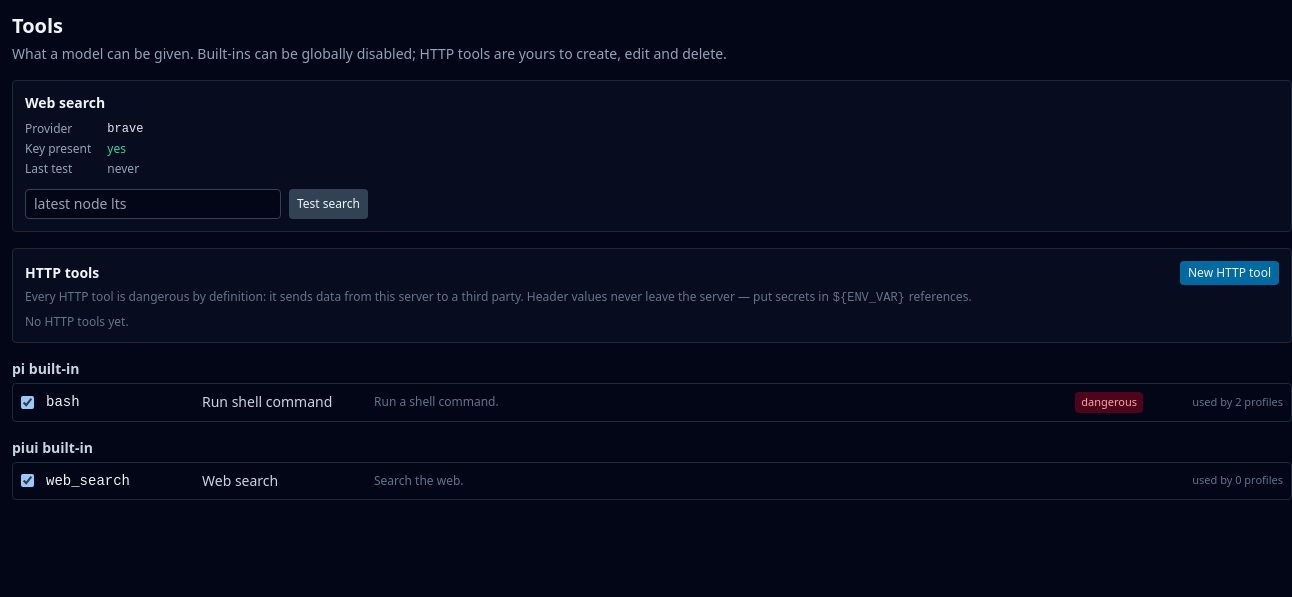
Scenario: ToolsPage › [05-skills-and-tools#B.2] runs a test search and shows the top results
Check: the text "bash" is shown, box x1=46 y1=394 x2=80 y2=410
Step 1. Type "node lts" into the field named "test query" → point(153, 204), box x1=25 y1=189 x2=281 y2=219
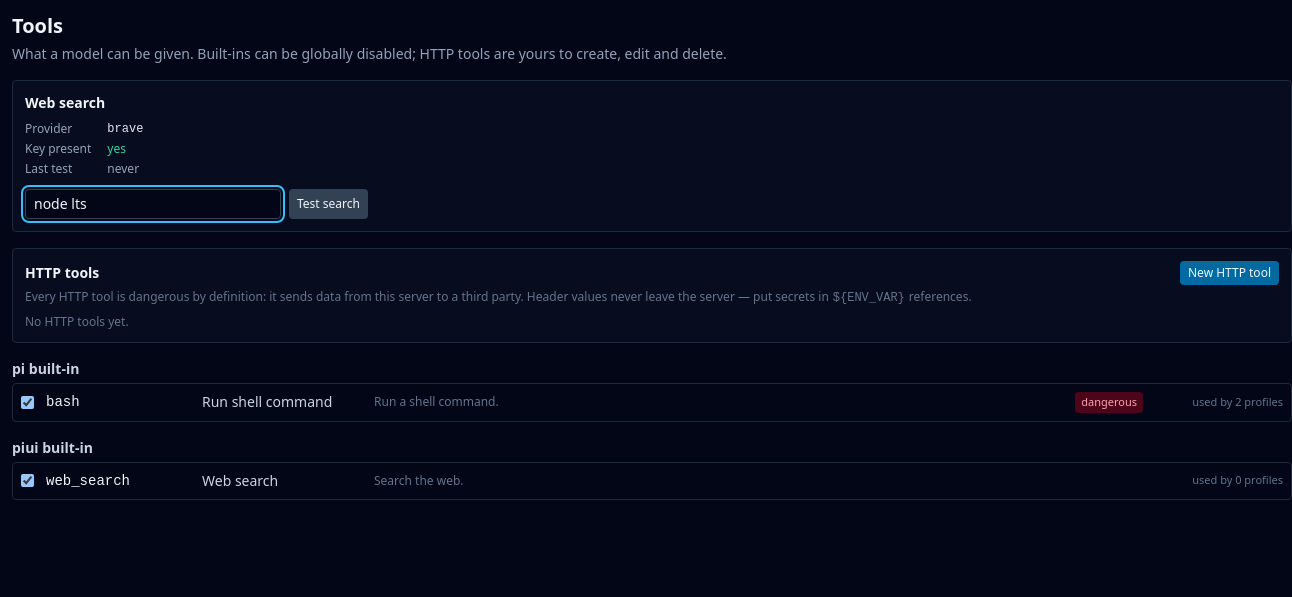
Step 2. Click the button "Test search" → point(328, 204), box x1=289 y1=189 x2=368 y2=219
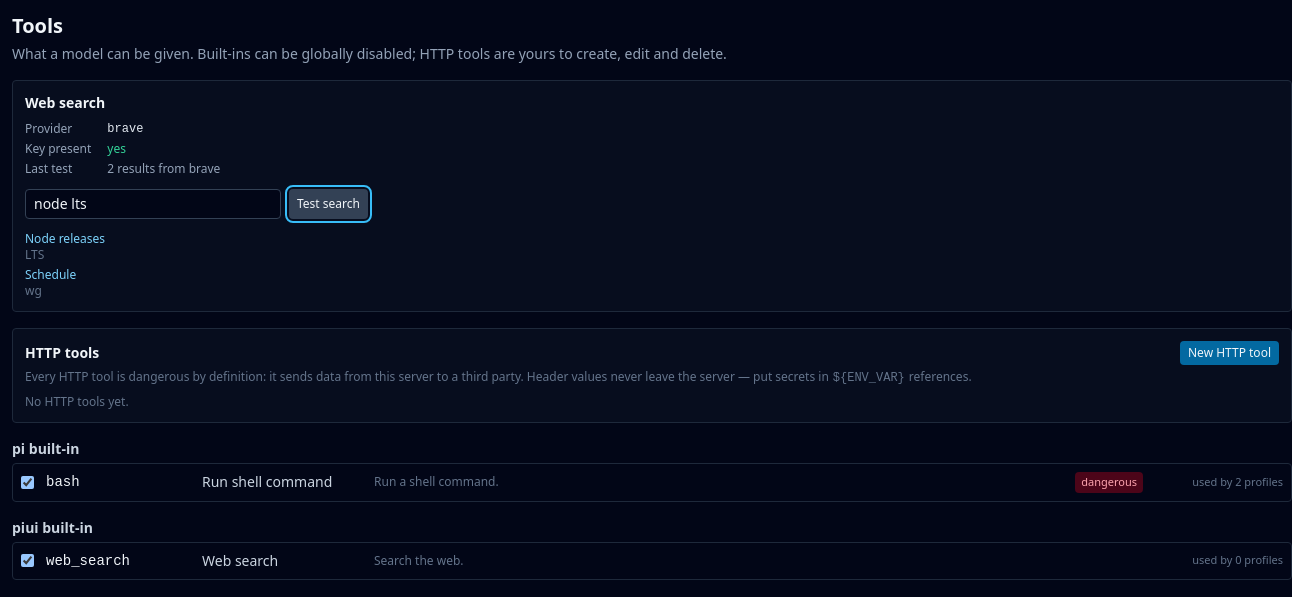
Check: the link "Node releases" is shown, box x1=25 y1=230 x2=105 y2=247
